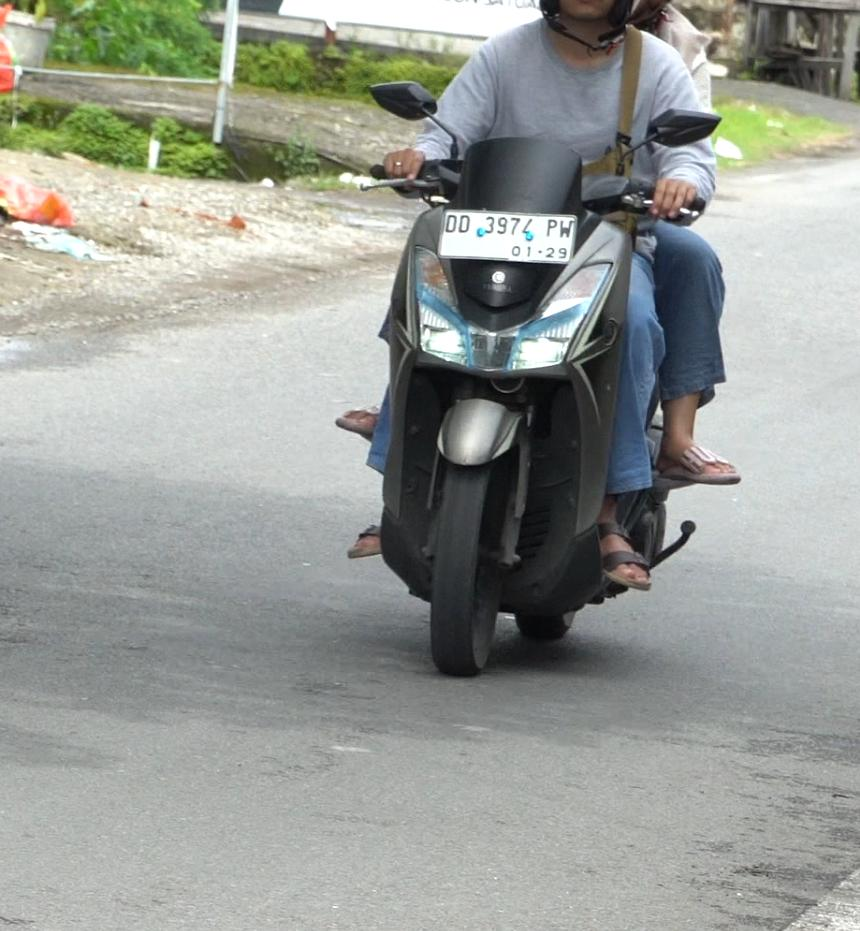number-plate: (432, 205, 576, 269)
